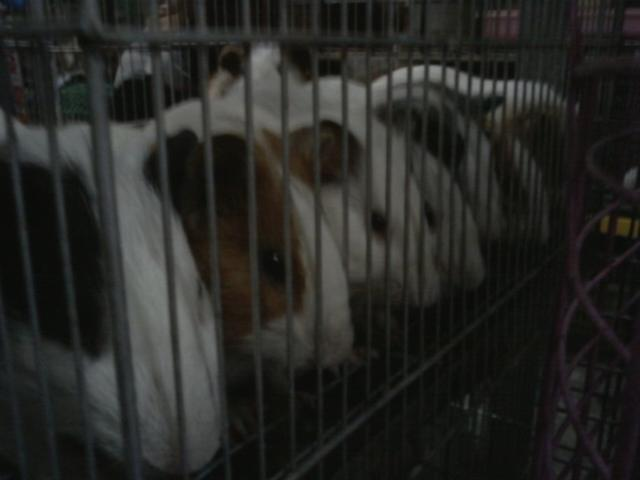mouse: (54, 127, 340, 399), (284, 84, 457, 368)
